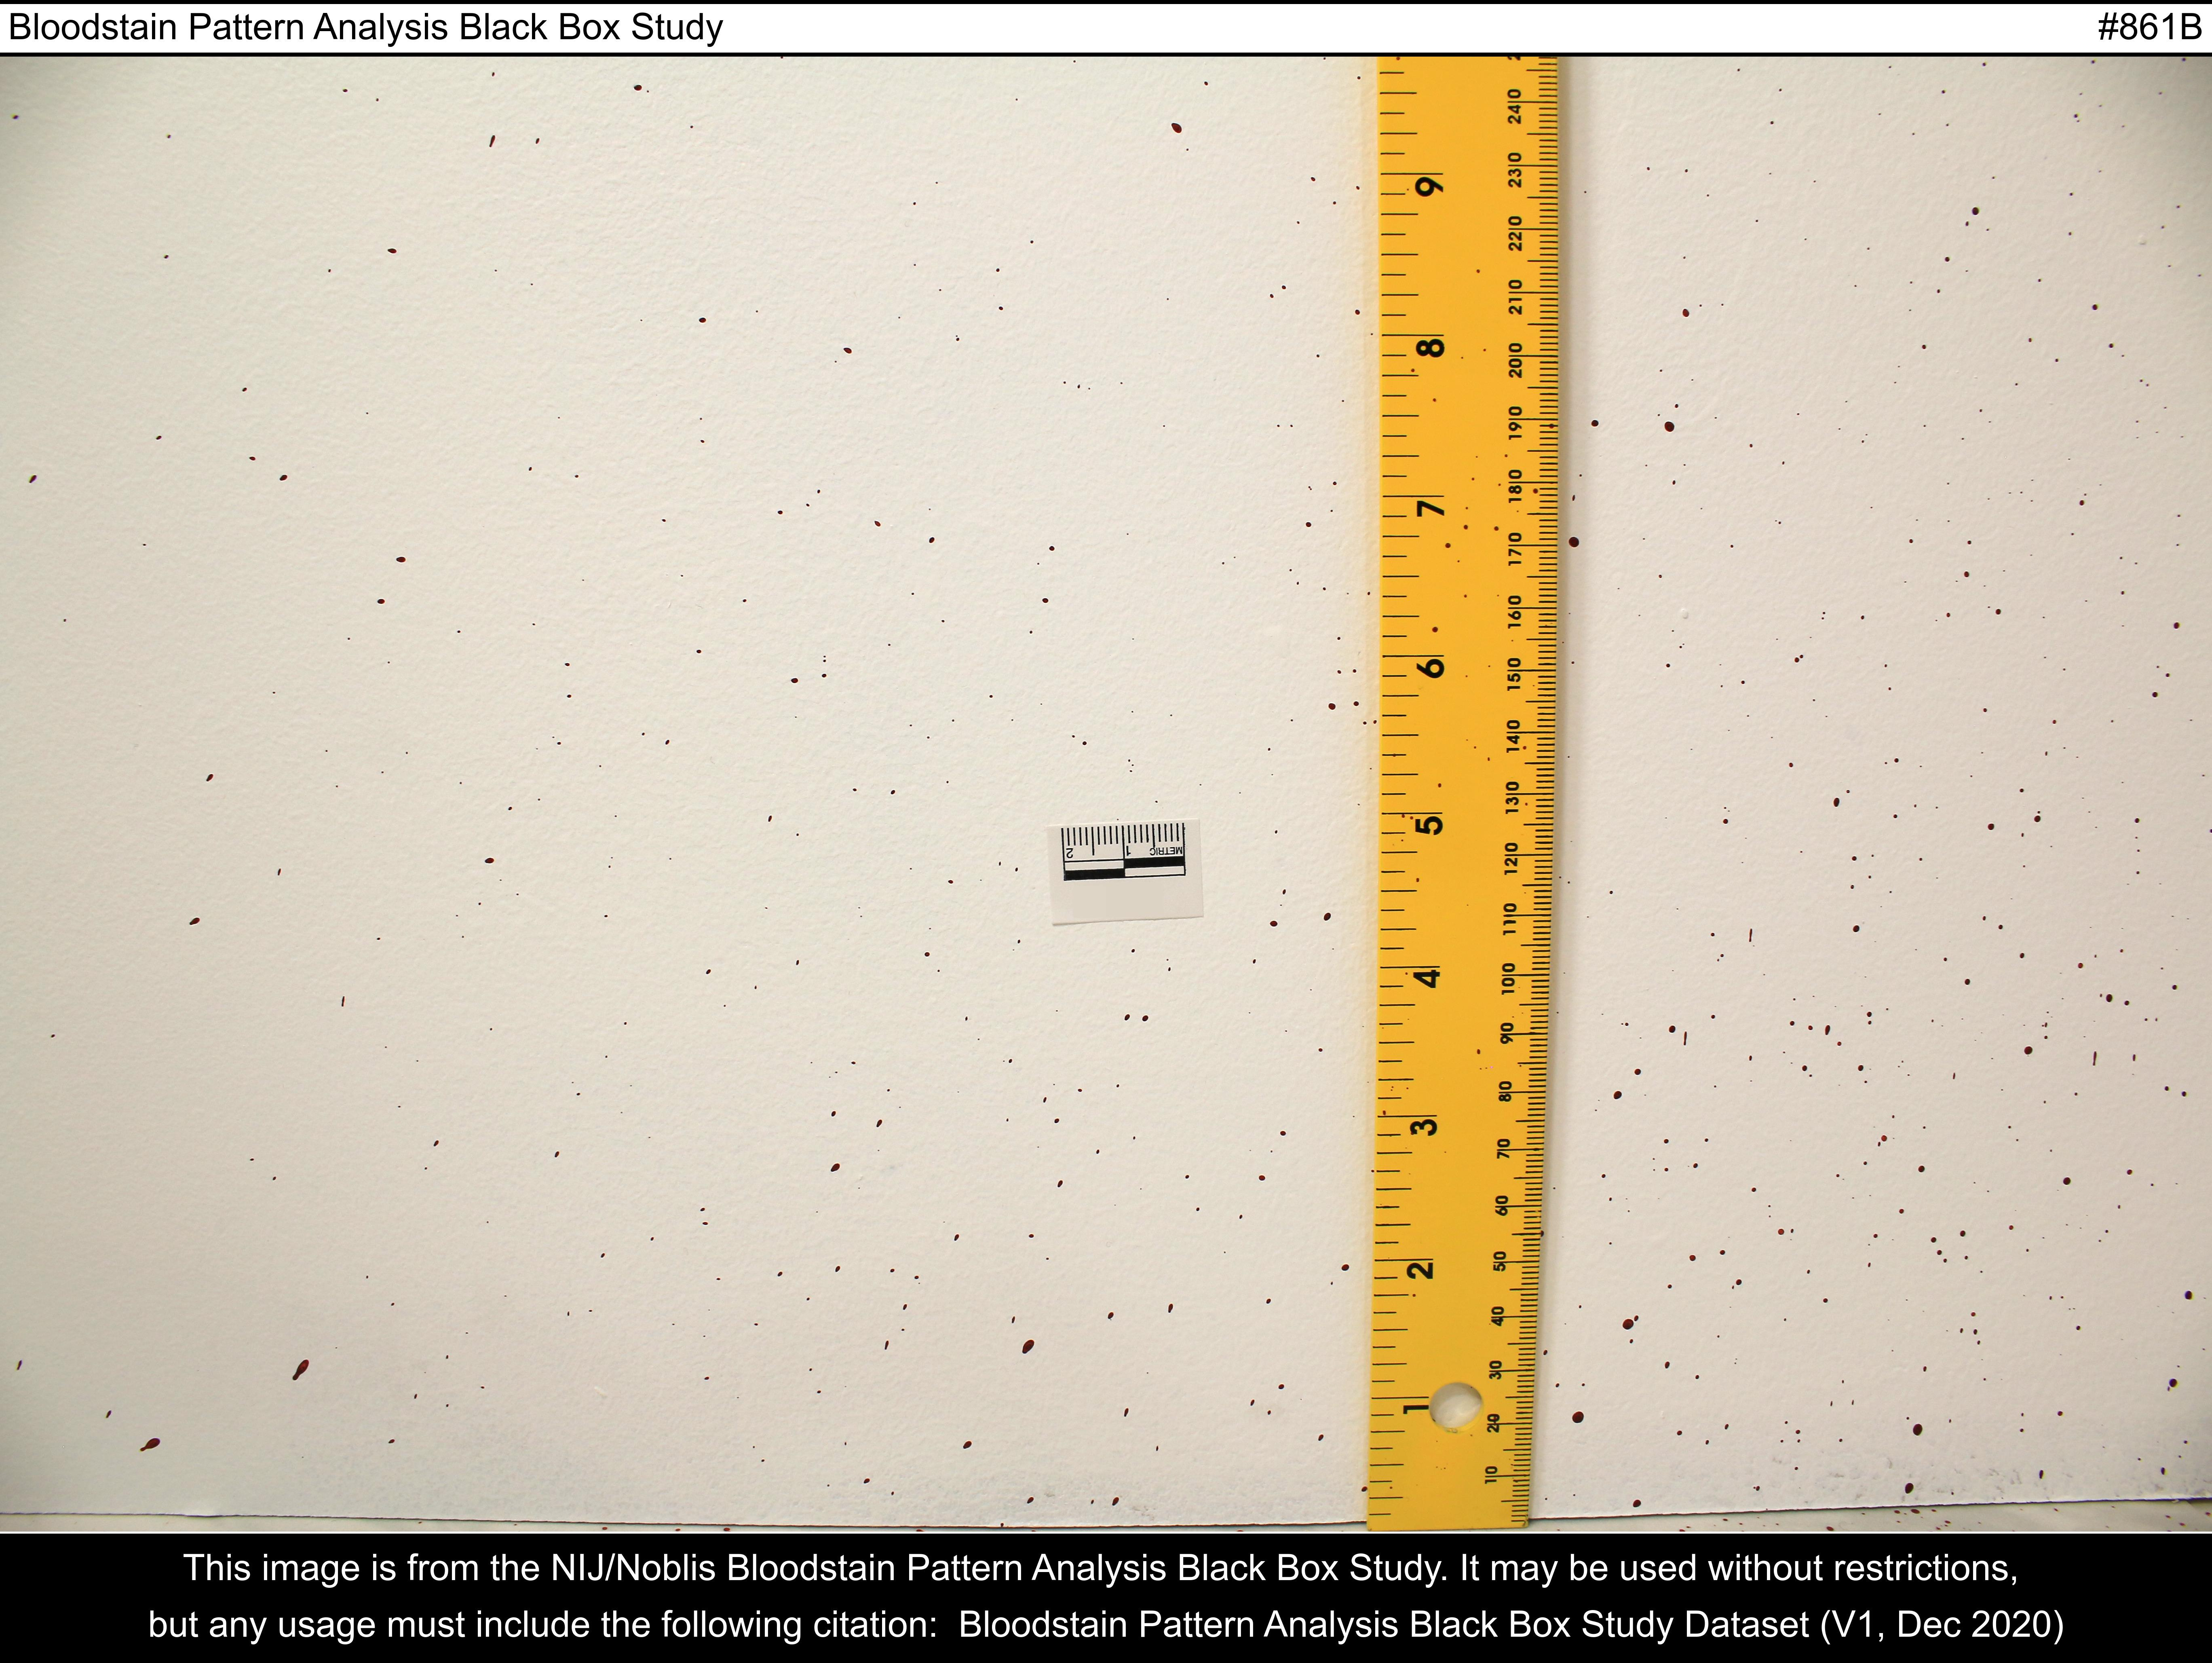Impact: (12, 187, 1355, 1518), (1556, 217, 2209, 1511)
